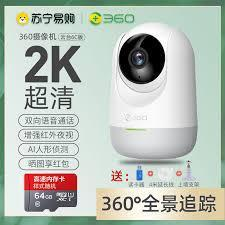maru: (92, 20, 201, 169)
